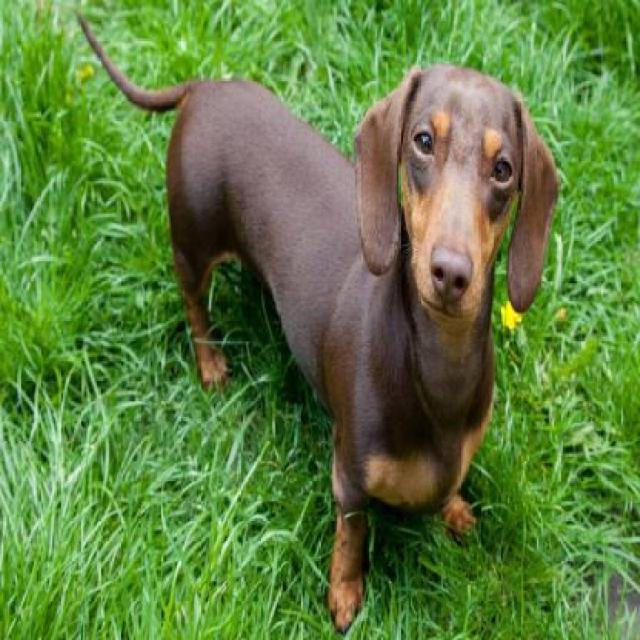Dog: (66, 0, 561, 638)
